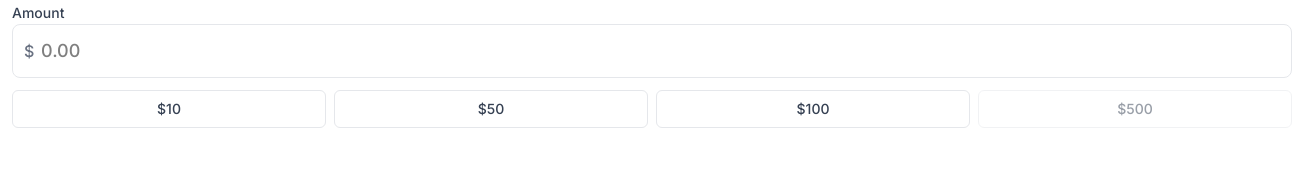
Test: TradeAmountInput › Validation › shows error for amount above maximum
Type "150" into the field named "trade amount" at (652, 51), box 12,24 -> 1292,78
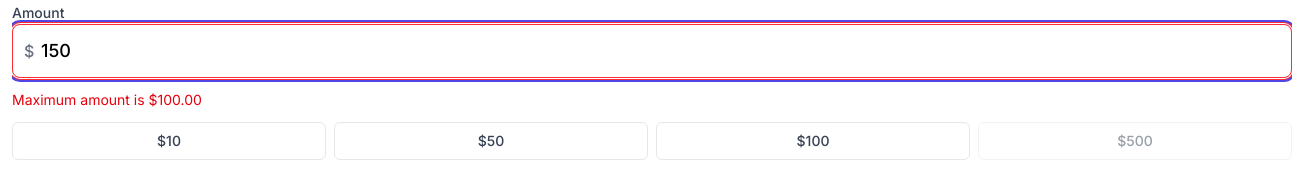
Check: the message shows "Maximum amount", box 12,91 -> 202,108
